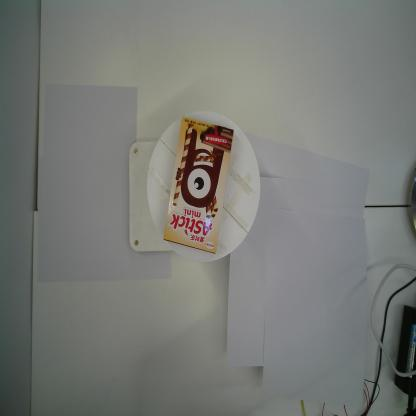Dessert: (163, 114, 235, 258)
